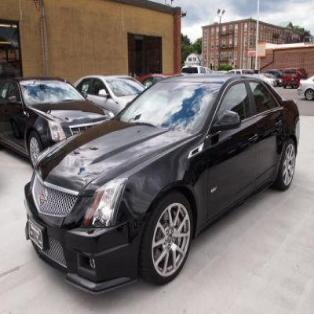Auto: (21, 64, 300, 292)
